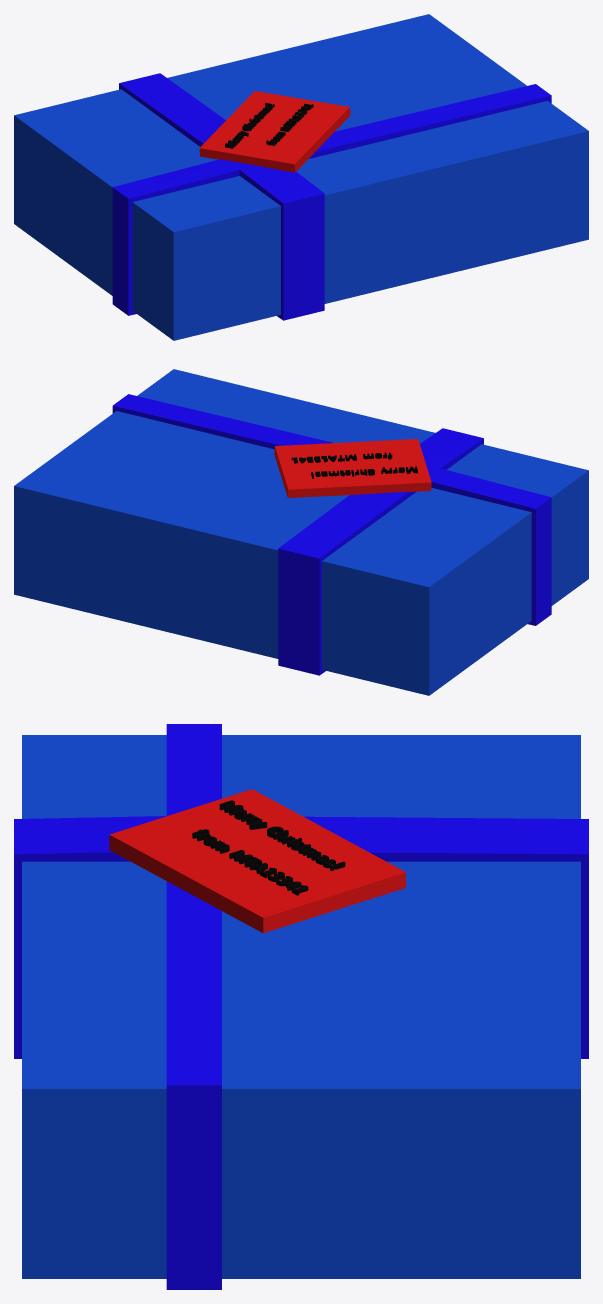
File: present_blueblue.FBX
3 views of the same model, one above another, from view 1: azimuth 30°, elevation 25°; view 2: azimuth 150°, elevation 25°; view 3: azimuth 270°, elevation 25° (orthographic). The views are drawn at different scales.
Parts seen in each view (by area): view 1: Box001, Object001, Box002, Object002, Text001; view 2: Box001, Object001, Box002, Object002, Text001; view 3: Box001, Object001, Box002, Object002, Text001.
Boxes of the visible parts, x1,y1,x2,y2 form: Box001: [14, 14, 588, 340]; Object001: [112, 73, 551, 320]; Box002: [199, 91, 350, 172]; Object002: [119, 83, 551, 320]; Text001: [225, 103, 313, 148]; Box001: [14, 369, 588, 695]; Object001: [113, 394, 551, 675]; Box002: [274, 439, 431, 497]; Object002: [112, 406, 535, 675]; Text001: [291, 452, 417, 478]; Box001: [22, 735, 580, 1278]; Object001: [14, 724, 588, 1289]; Box002: [109, 789, 405, 933]; Object002: [14, 852, 588, 1058]; Text001: [192, 800, 345, 895].
Size of the model in its own units: 122 by 36.32 by 82.34.
